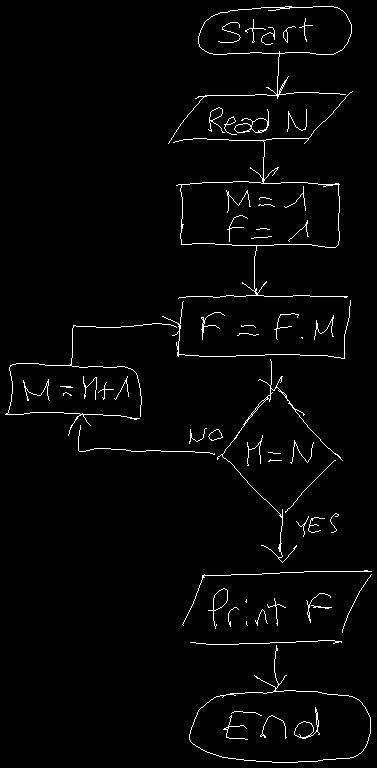arrow: (68, 413, 214, 454), (70, 316, 180, 365), (261, 509, 296, 562), (254, 645, 286, 691), (250, 141, 278, 183), (242, 246, 266, 295), (266, 51, 288, 98), (258, 359, 282, 401)
data: (182, 570, 371, 644), (168, 91, 352, 143)
decision: (217, 387, 342, 517)
process: (176, 295, 350, 358), (176, 181, 339, 247), (5, 363, 141, 419)
terminator: (189, 690, 370, 762), (198, 6, 351, 54)
text: (208, 588, 331, 628), (226, 186, 308, 241), (201, 312, 333, 339), (223, 707, 319, 739), (208, 107, 306, 134), (23, 376, 128, 400), (218, 18, 312, 44), (247, 435, 313, 465), (296, 513, 338, 536), (189, 428, 222, 443)
